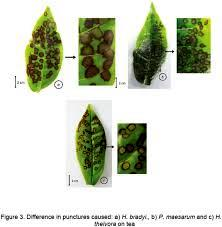Xanthomonas: (27, 16, 60, 87), (80, 21, 114, 82), (180, 20, 209, 70), (84, 116, 104, 170), (119, 129, 144, 170), (151, 16, 167, 55)
